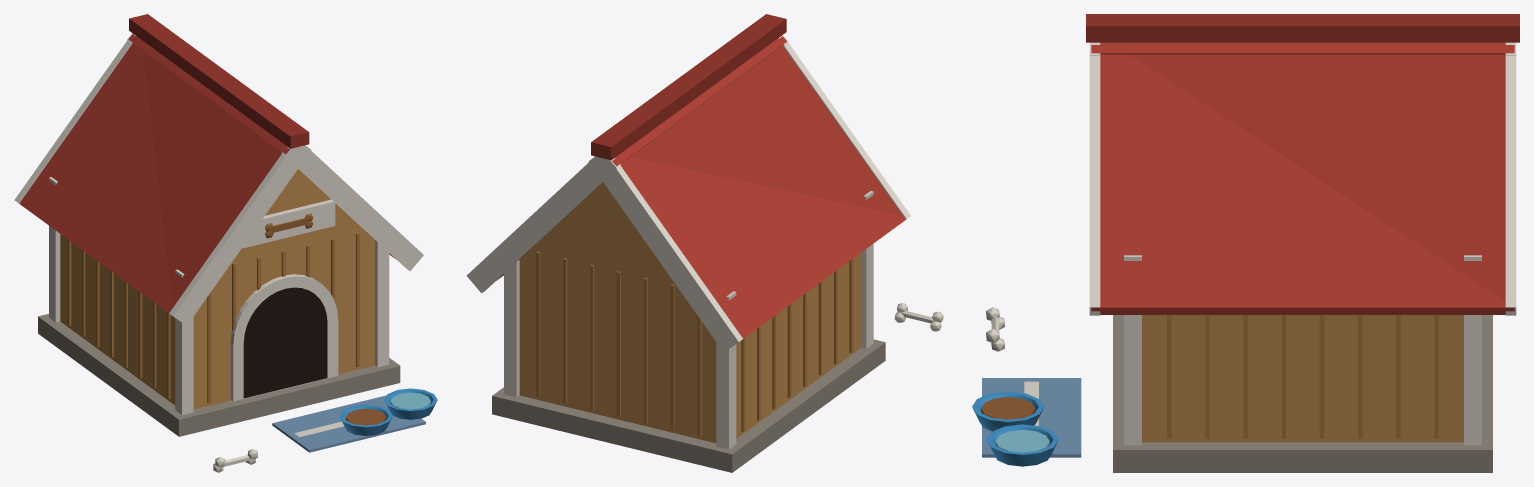
File: dog_house.glb
3 renders of one model, left to right at view 1: azimuth 30°, elevation 25°; view 2: azimuth 150°, elevation 25°; view 3: azimuth 270°, elevation 25°, orthographic. The views are drawn at different scales.
Parts seen in each view (by area): view 1: decor-dog_house; view 2: decor-dog_house; view 3: decor-dog_house.
Boxes of the visible parts, x1,y1,x2,y2 form: decor-dog_house: (14, 14, 437, 472); decor-dog_house: (466, 14, 943, 472); decor-dog_house: (972, 14, 1519, 472).
Bounding box in the file's own units: 2.15 × 2.35 × 3.03.
